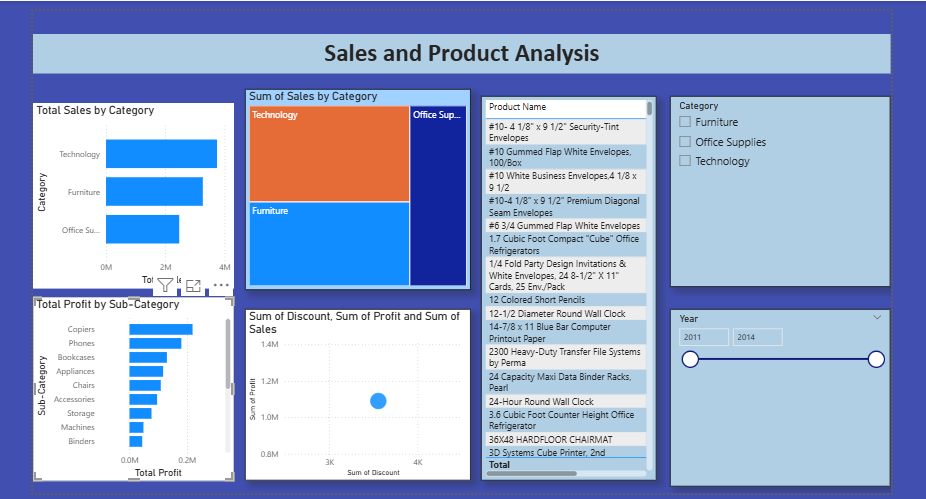

This screenshot's page, from the dashboard's own definition file:
{"tool":"powerbi","page":{"name":"02_Sales_Analysis","canvas":[1280,720],"ordinal":1},"visuals":[{"type":"textbox","box":[0,33.7,1280.5,58.5],"z":0},{"type":"clusteredBarChart","fields":{"Category":["DimProduct.Category"],"Y":["Table.Total Sales"]},"box":[0,137.6,300,276.6],"z":1000},{"type":"barChart","fields":{"Category":["DimProduct.Sub-Category"],"Y":["Table.Total Profit"]},"box":[0,426.9,300,274.6],"z":2000},{"type":"treemap","fields":{"Group":["DimProduct.Category"],"Values":["Sum(FactOrders.Sales)"]},"box":[316.1,117.1,336.6,300],"z":3000},{"type":"scatterChart","fields":{"X":["Sum(FactOrders.Discount)"],"Y":["Sum(FactOrders.Profit)"],"Size":["Sum(FactOrders.Sales)"]},"box":[316.1,444.9,336.6,256.1],"z":4000},{"type":"tableEx","fields":{"Values":["FactOrders.Product Name","Table.Total Sales","Table.Total Profit"]},"box":[668.8,127.3,262,573.7],"z":5000},{"type":"slicer","fields":{"Values":["DimDate.Year"]},"box":[951.2,444.9,329.3,264.9],"z":6000},{"type":"slicer","fields":{"Values":["DimProduct.Category"]},"box":[951.2,127.3,329.3,285.4],"z":7000}]}

Visuals, with their boxes in screenshot pixels (x1, y1, x2, y2):
textbox: [39, 34, 883, 73]
clusteredBarChart - DimProduct.Category x Table.Total Sales: [39, 103, 236, 285]
barChart - DimProduct.Sub-Category x Table.Total Profit: [39, 294, 236, 475]
treemap - DimProduct.Category x Sum(FactOrders.Sales): [247, 89, 469, 287]
scatterChart - Sum(FactOrders.Discount) x Sum(FactOrders.Profit): [247, 305, 469, 474]
tableEx - FactOrders.Product Name x Table.Total Sales: [480, 96, 652, 474]
slicer - DimDate.Year: [666, 305, 883, 480]
slicer - DimProduct.Category: [666, 96, 883, 284]
